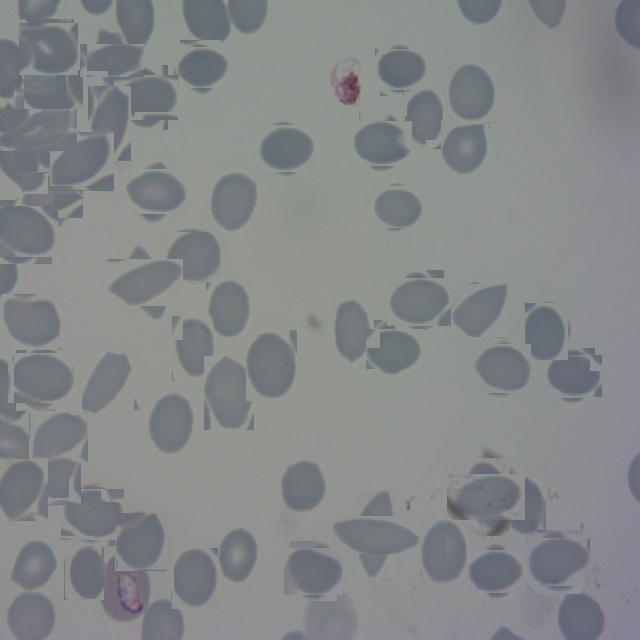leukocyte: (4, 99, 67, 162), (455, 466, 518, 528), (345, 504, 408, 566), (114, 252, 176, 314), (51, 130, 112, 192), (204, 356, 254, 430), (246, 330, 297, 401), (11, 348, 70, 407), (2, 294, 62, 350), (82, 350, 134, 414), (144, 391, 194, 456), (65, 486, 122, 543), (0, 203, 55, 262), (88, 86, 131, 161), (210, 169, 260, 233), (419, 520, 467, 586), (530, 534, 586, 590), (392, 274, 448, 330), (164, 230, 220, 286), (20, 21, 76, 77), (446, 62, 496, 124), (452, 282, 507, 338), (118, 70, 173, 125), (29, 412, 88, 463), (170, 548, 218, 610), (0, 459, 48, 521), (286, 544, 341, 598), (115, 512, 166, 570), (128, 164, 182, 218), (355, 116, 409, 170), (474, 342, 528, 396), (26, 168, 80, 222), (206, 278, 252, 340), (332, 297, 374, 364), (27, 66, 80, 118), (441, 120, 490, 176), (172, 316, 214, 381), (470, 546, 522, 598), (260, 122, 312, 174), (280, 458, 327, 514), (215, 526, 258, 586), (402, 88, 445, 148), (504, 476, 546, 537), (526, 303, 570, 360), (548, 352, 598, 402), (370, 324, 419, 374), (88, 36, 136, 86), (372, 182, 420, 230), (378, 46, 426, 94), (35, 456, 81, 506), (177, 44, 224, 92), (64, 547, 104, 600), (12, 544, 56, 590)
